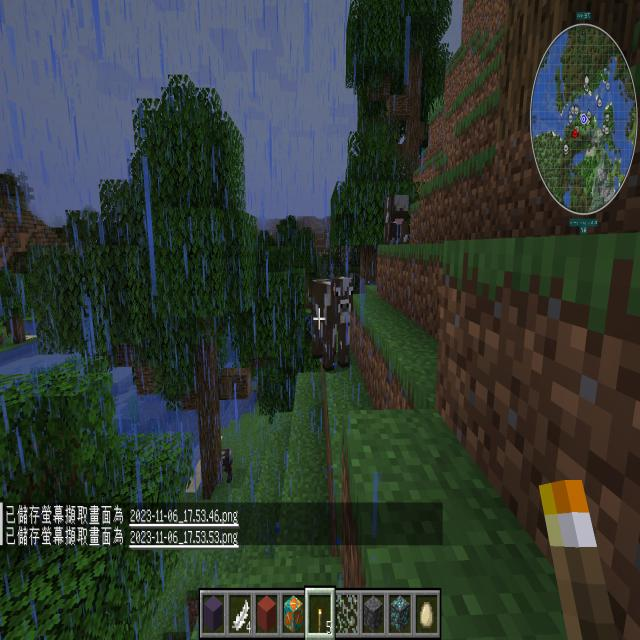cow: (300, 265, 366, 377), (377, 186, 416, 252), (218, 442, 238, 483)
